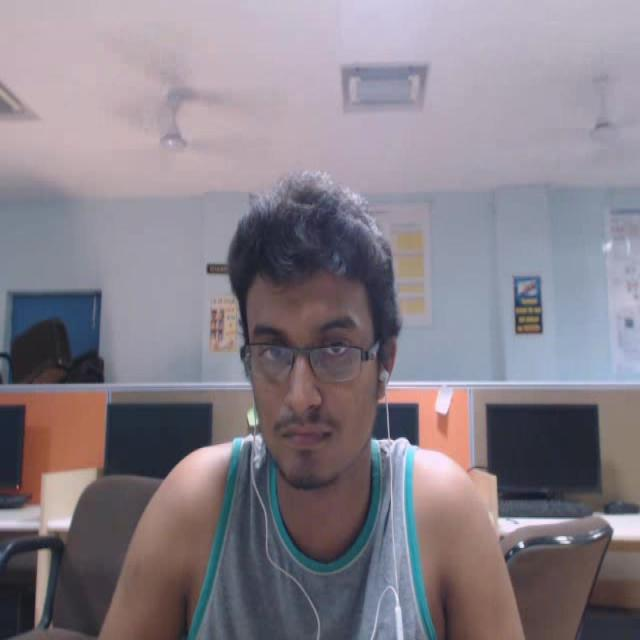Engaged: (228, 152, 422, 530)
